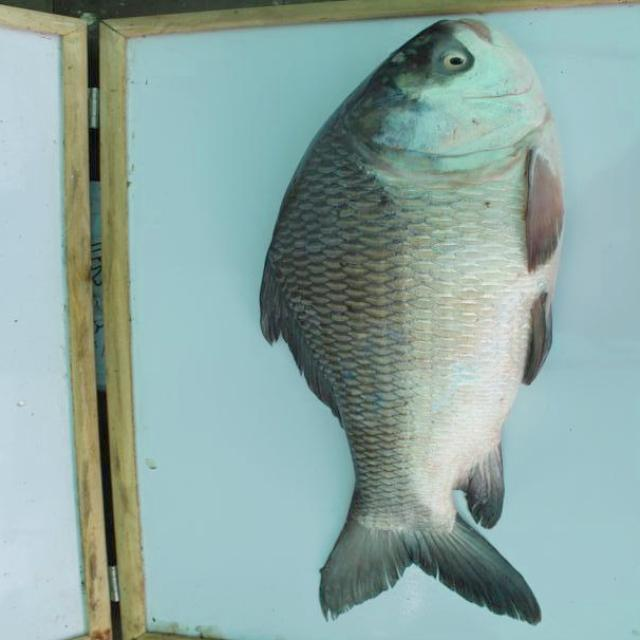Catla: (259, 14, 564, 626)
